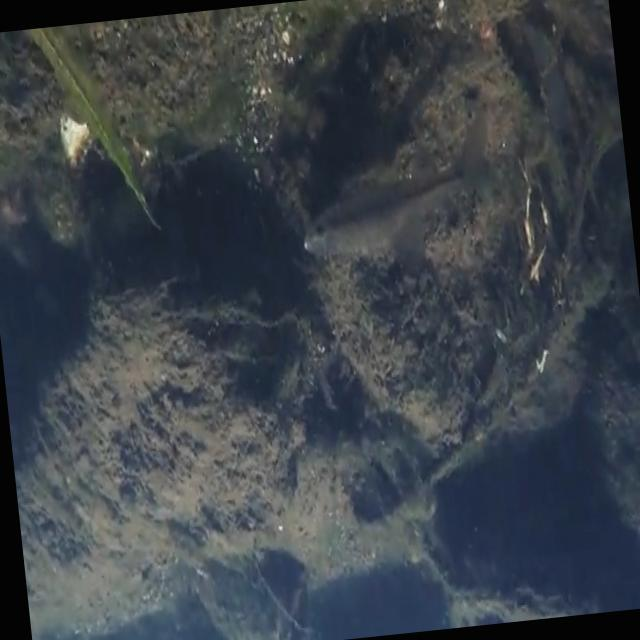Cakil Baligi: (288, 107, 502, 291)
